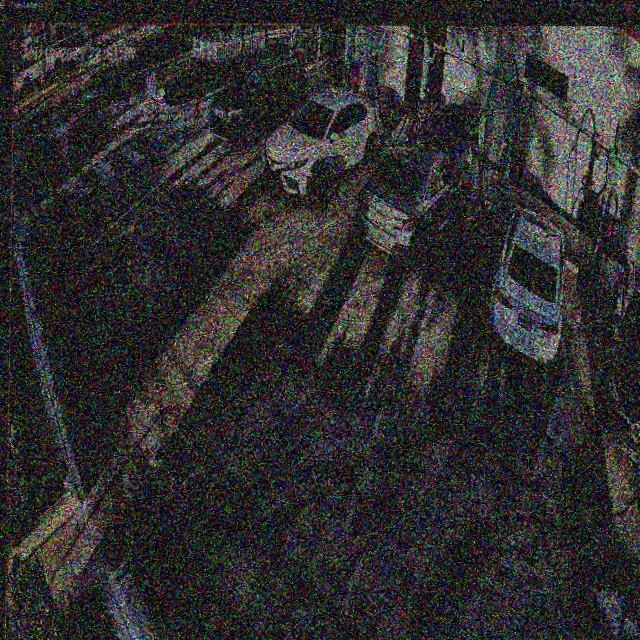Car: (358, 115, 472, 262), (261, 90, 383, 196), (488, 205, 567, 365), (210, 59, 307, 146)
